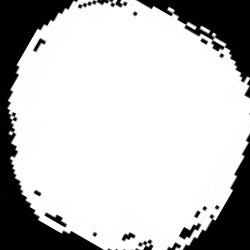spot: (9, 2, 249, 249)
